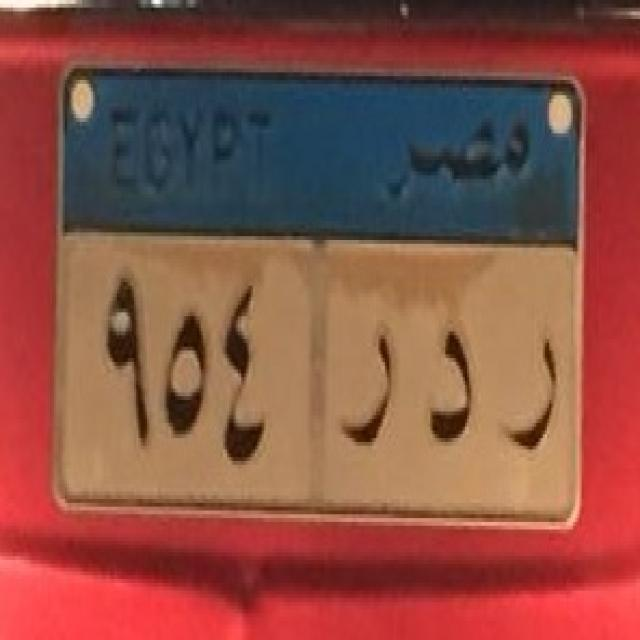4: (215, 268, 274, 474)
5: (161, 296, 218, 448)
9: (96, 262, 160, 458)
R: (497, 316, 568, 474), (338, 306, 402, 460)
daal: (423, 313, 481, 454)
